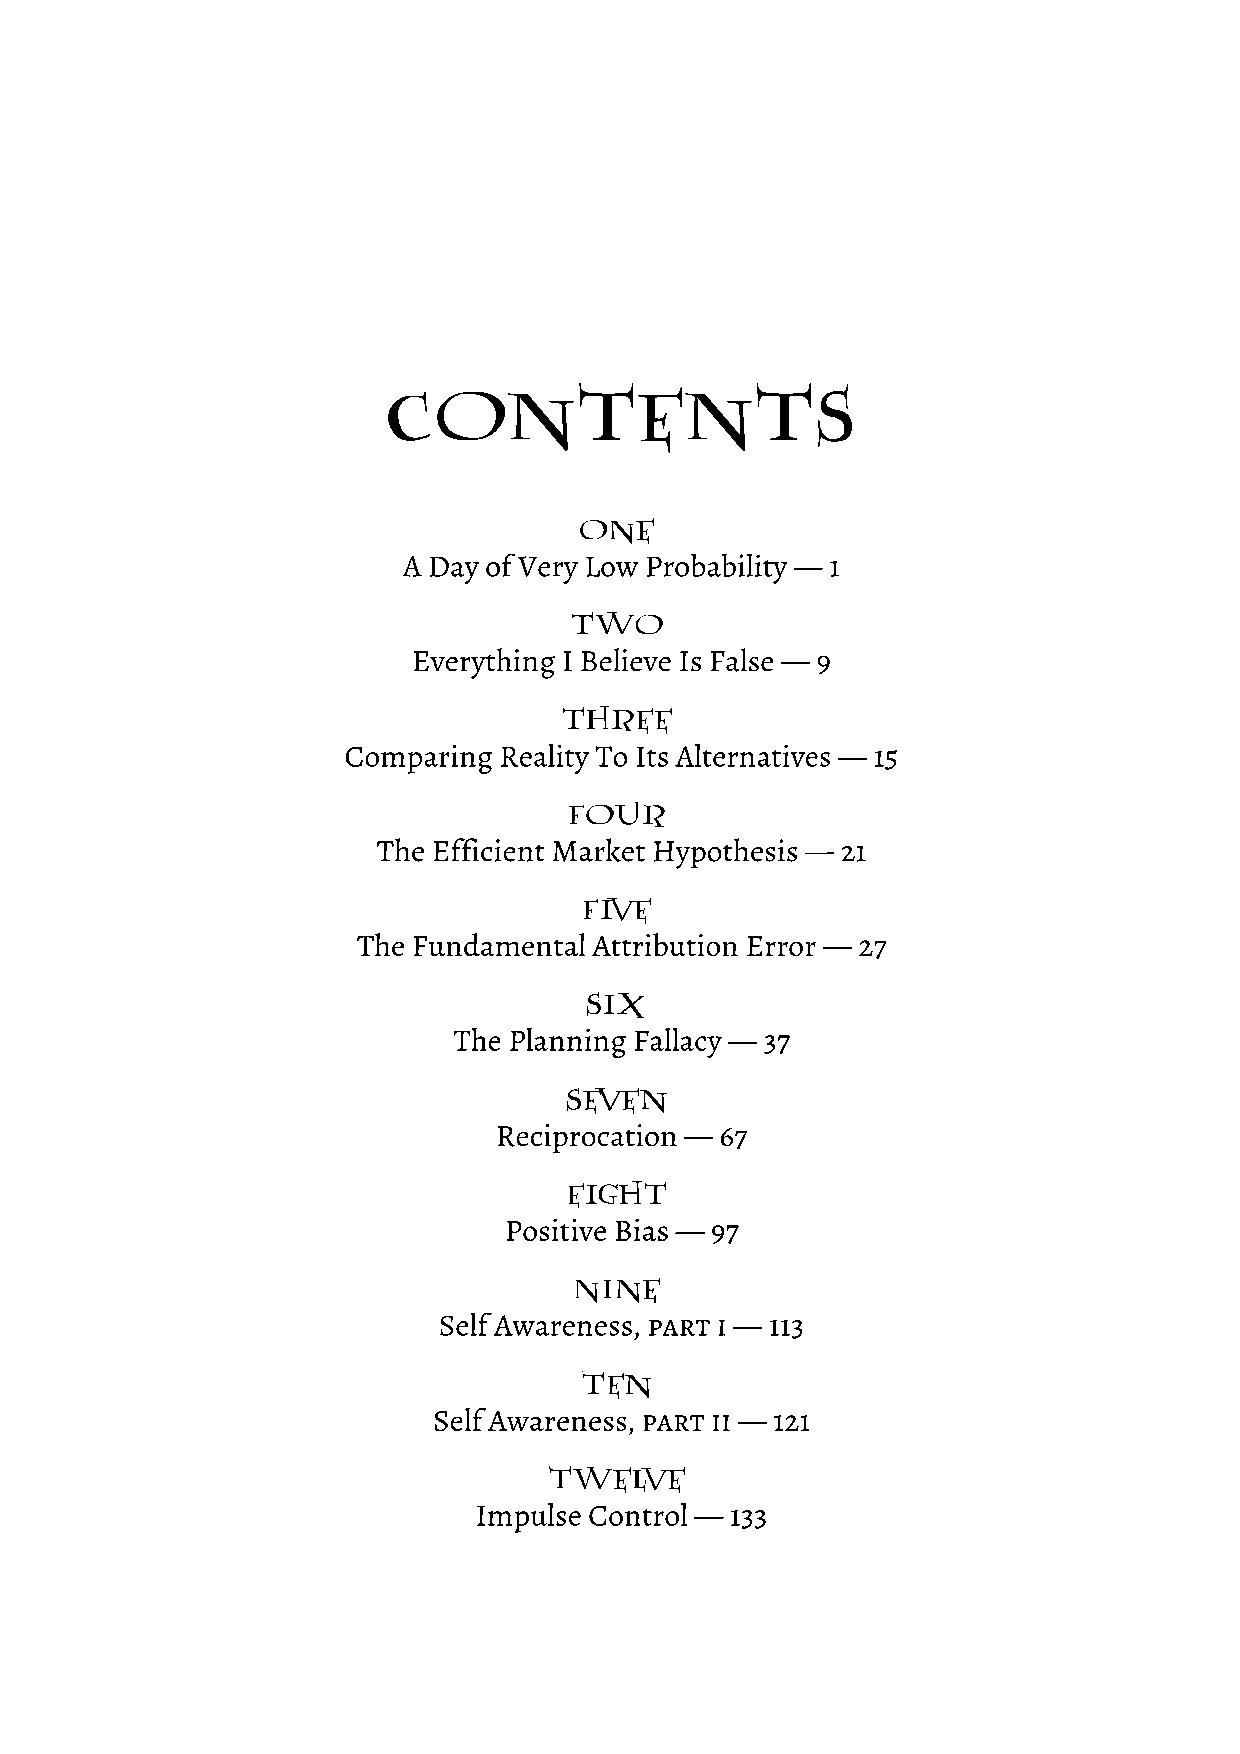TOC_chapter: (330, 695, 839, 772), (349, 892, 820, 964), (378, 798, 803, 870), (403, 513, 790, 586), (408, 608, 770, 676), (429, 1366, 735, 1435), (450, 985, 723, 1060), (433, 1272, 734, 1341), (472, 1460, 692, 1531), (494, 1083, 684, 1153), (502, 1180, 675, 1247)
TOC_pagenumber: (768, 1312, 805, 1341), (727, 1504, 766, 1531), (772, 1409, 809, 1435), (707, 1219, 739, 1247), (764, 1029, 794, 1057), (719, 1123, 747, 1153), (858, 935, 888, 962), (872, 746, 900, 774), (837, 840, 868, 866), (823, 554, 848, 580), (812, 651, 835, 676)
chapter: (376, 384, 862, 450)
